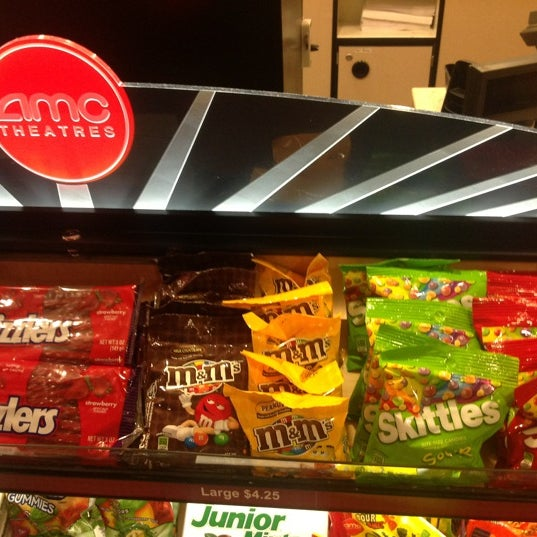skittles: (372, 352, 513, 484)
